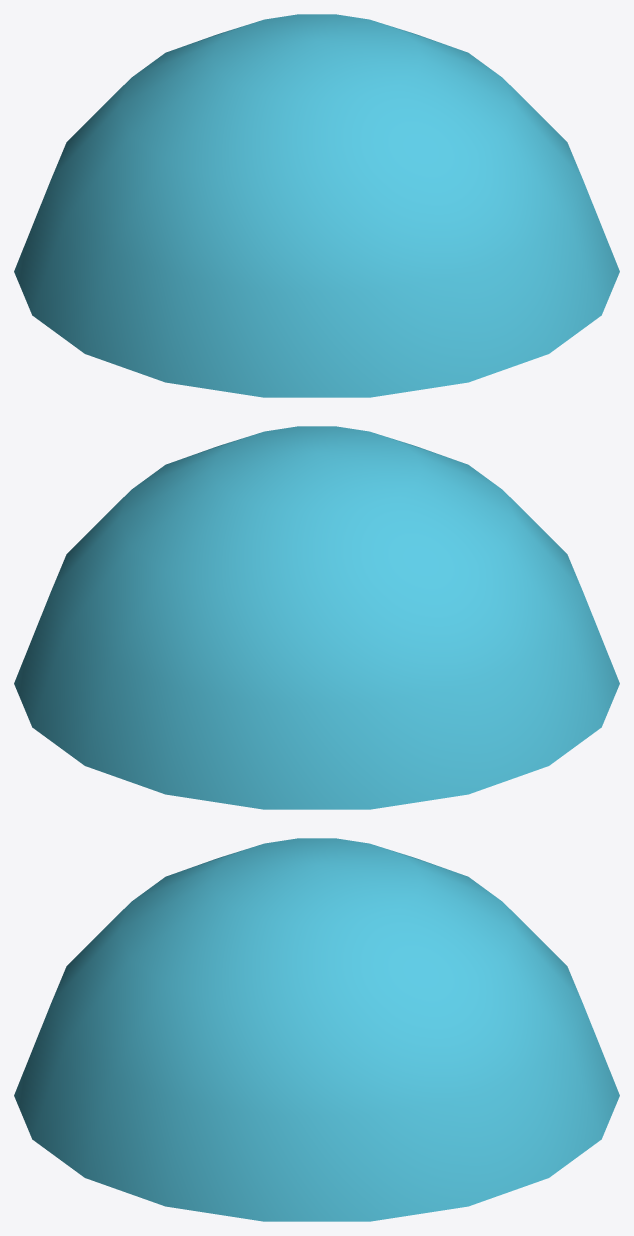
The model's file is parashute.obj.
The picture shows the model from 3 angles, top to bottom: view 1: azimuth 30°, elevation 25°; view 2: azimuth 150°, elevation 25°; view 3: azimuth 270°, elevation 25°; orthographic projection.
Visible parts, largest first — view 1: Sphere001; view 2: Sphere001; view 3: Sphere001.
Boxes of the visible parts, left/top/right/bottom form: Sphere001: left=14, top=14, right=619, bottom=397; Sphere001: left=14, top=426, right=619, bottom=809; Sphere001: left=14, top=838, right=619, bottom=1221.
Size of the model in its own units: 73.83 by 31.45 by 74.97.
